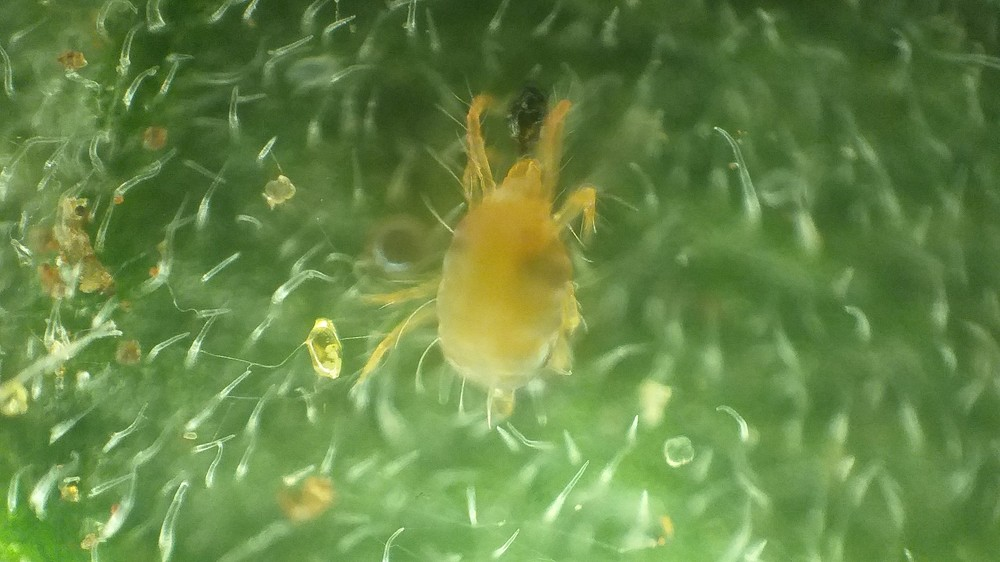Aracnido Rojo: (348, 74, 643, 488)
